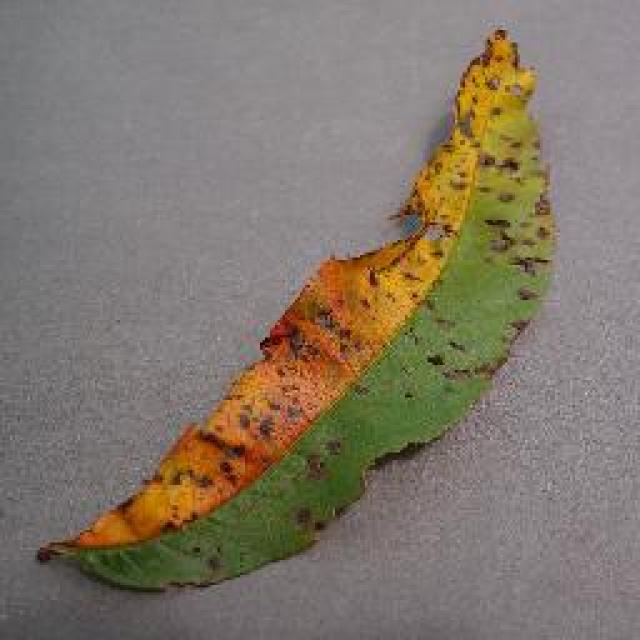Bacterial_spot: (30, 22, 561, 604)
